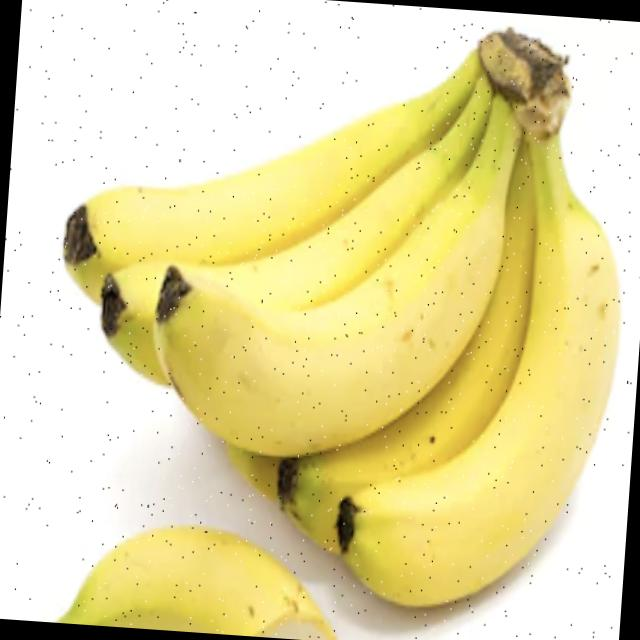banana: (64, 59, 454, 506)
